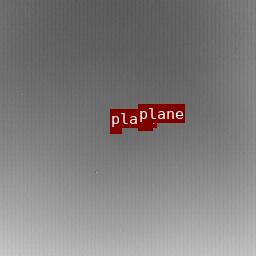plane: (138, 123, 152, 130), (110, 128, 121, 133)
